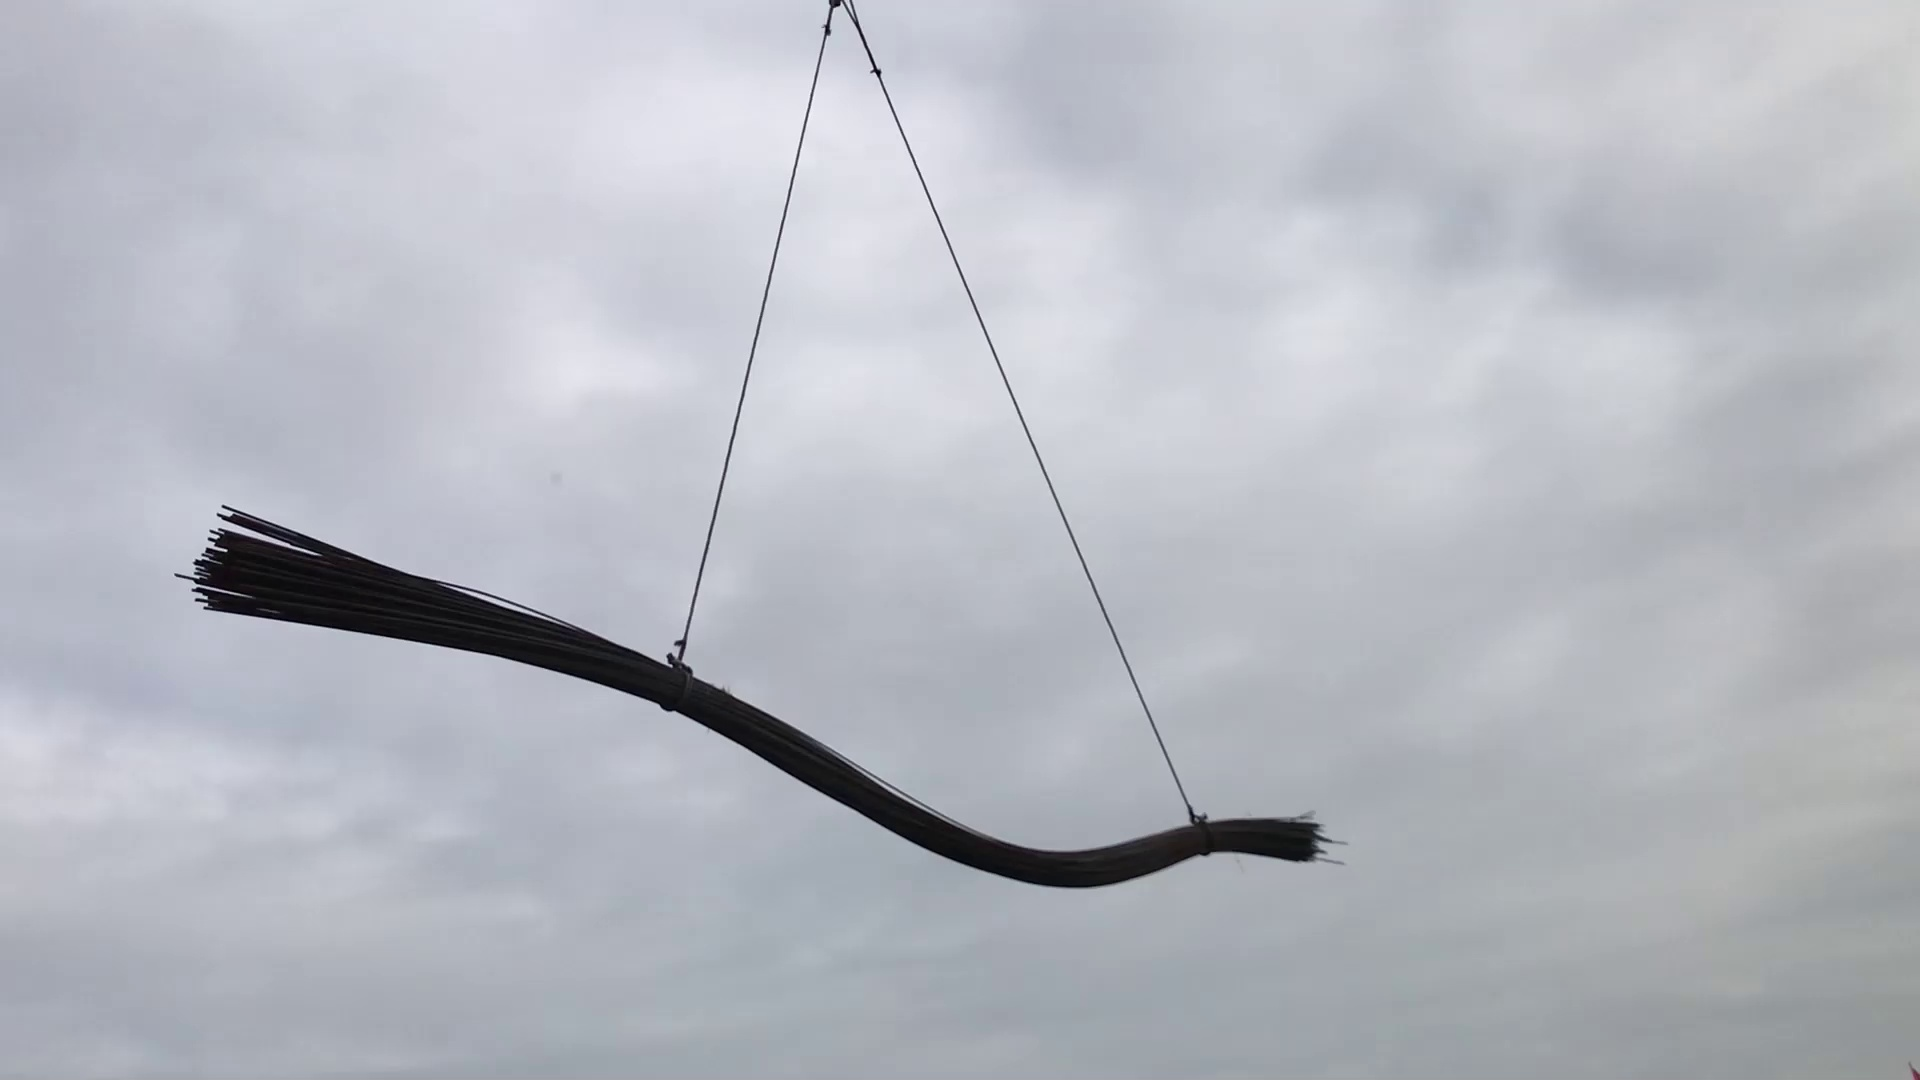rebar: (179, 502, 1338, 880)
